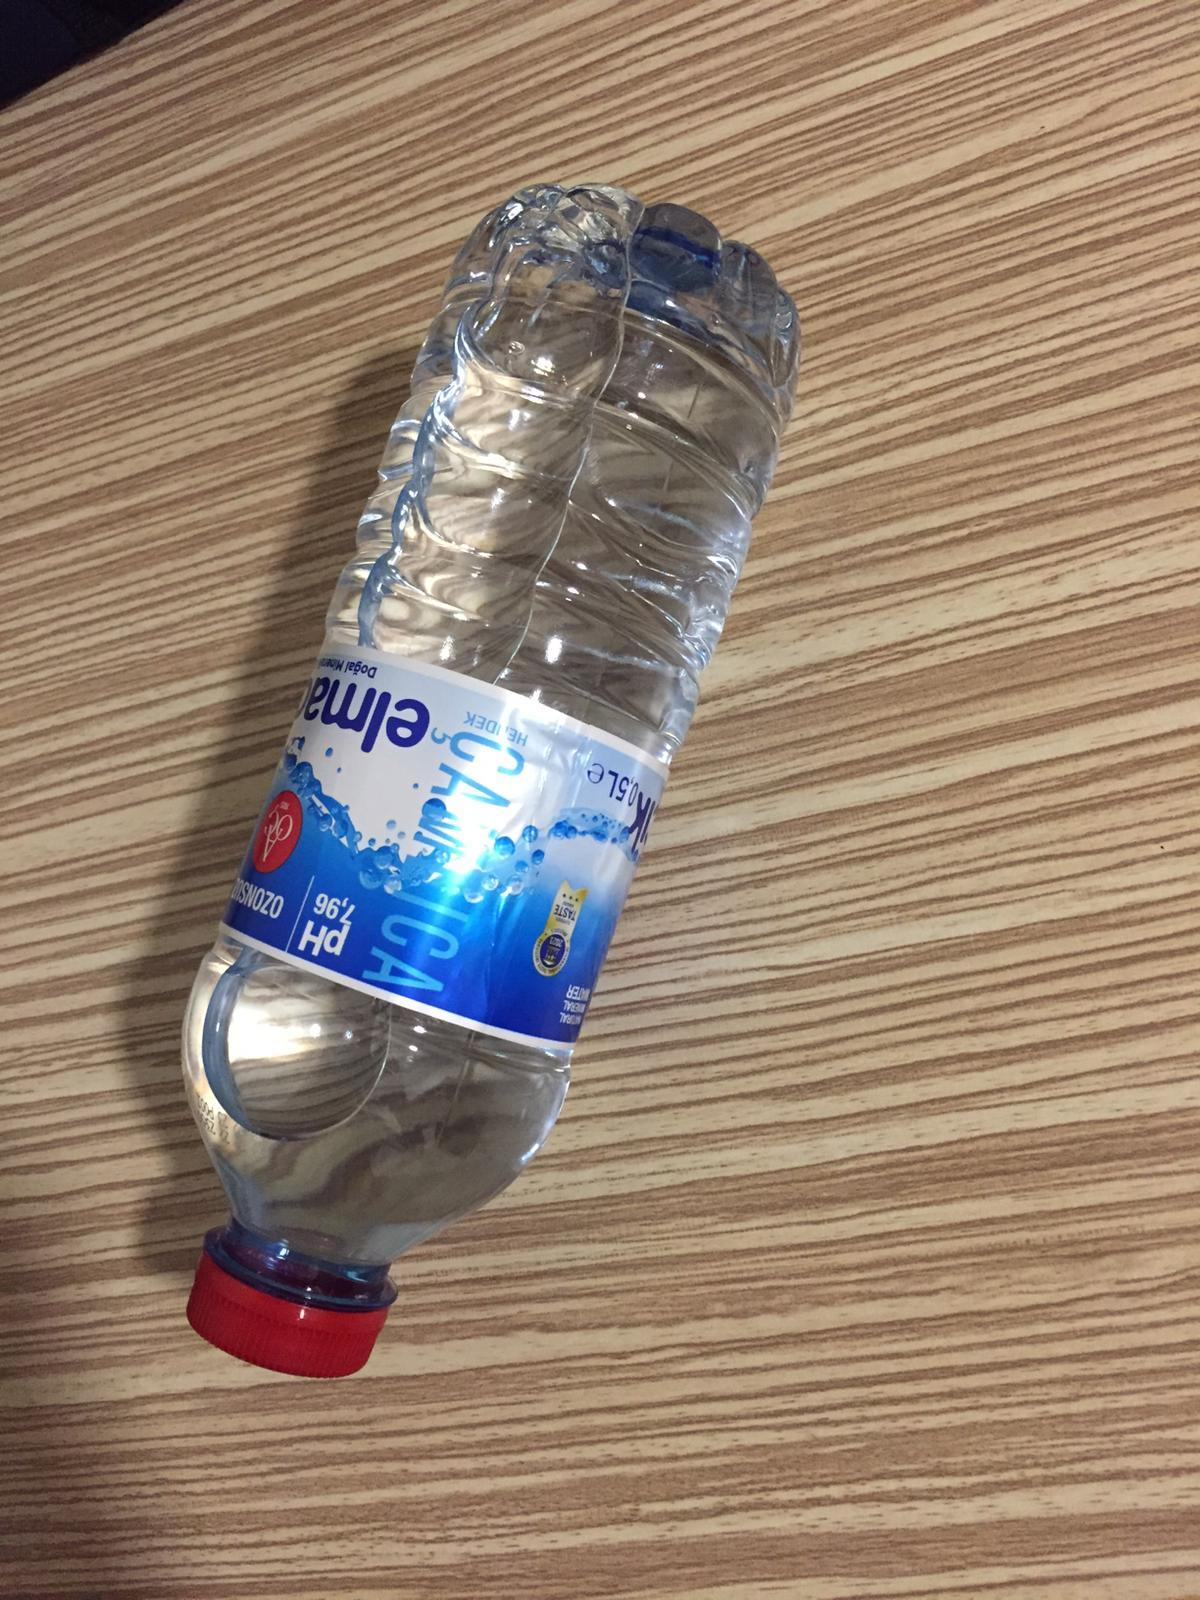bottle: (164, 170, 803, 1385)
